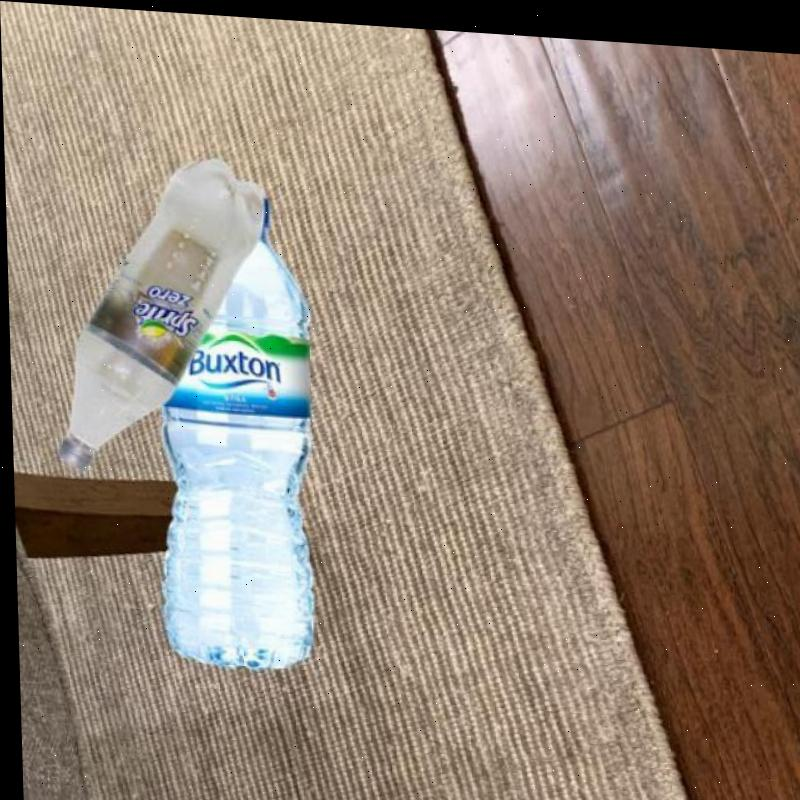botella: (146, 178, 318, 669), (39, 146, 273, 476)
